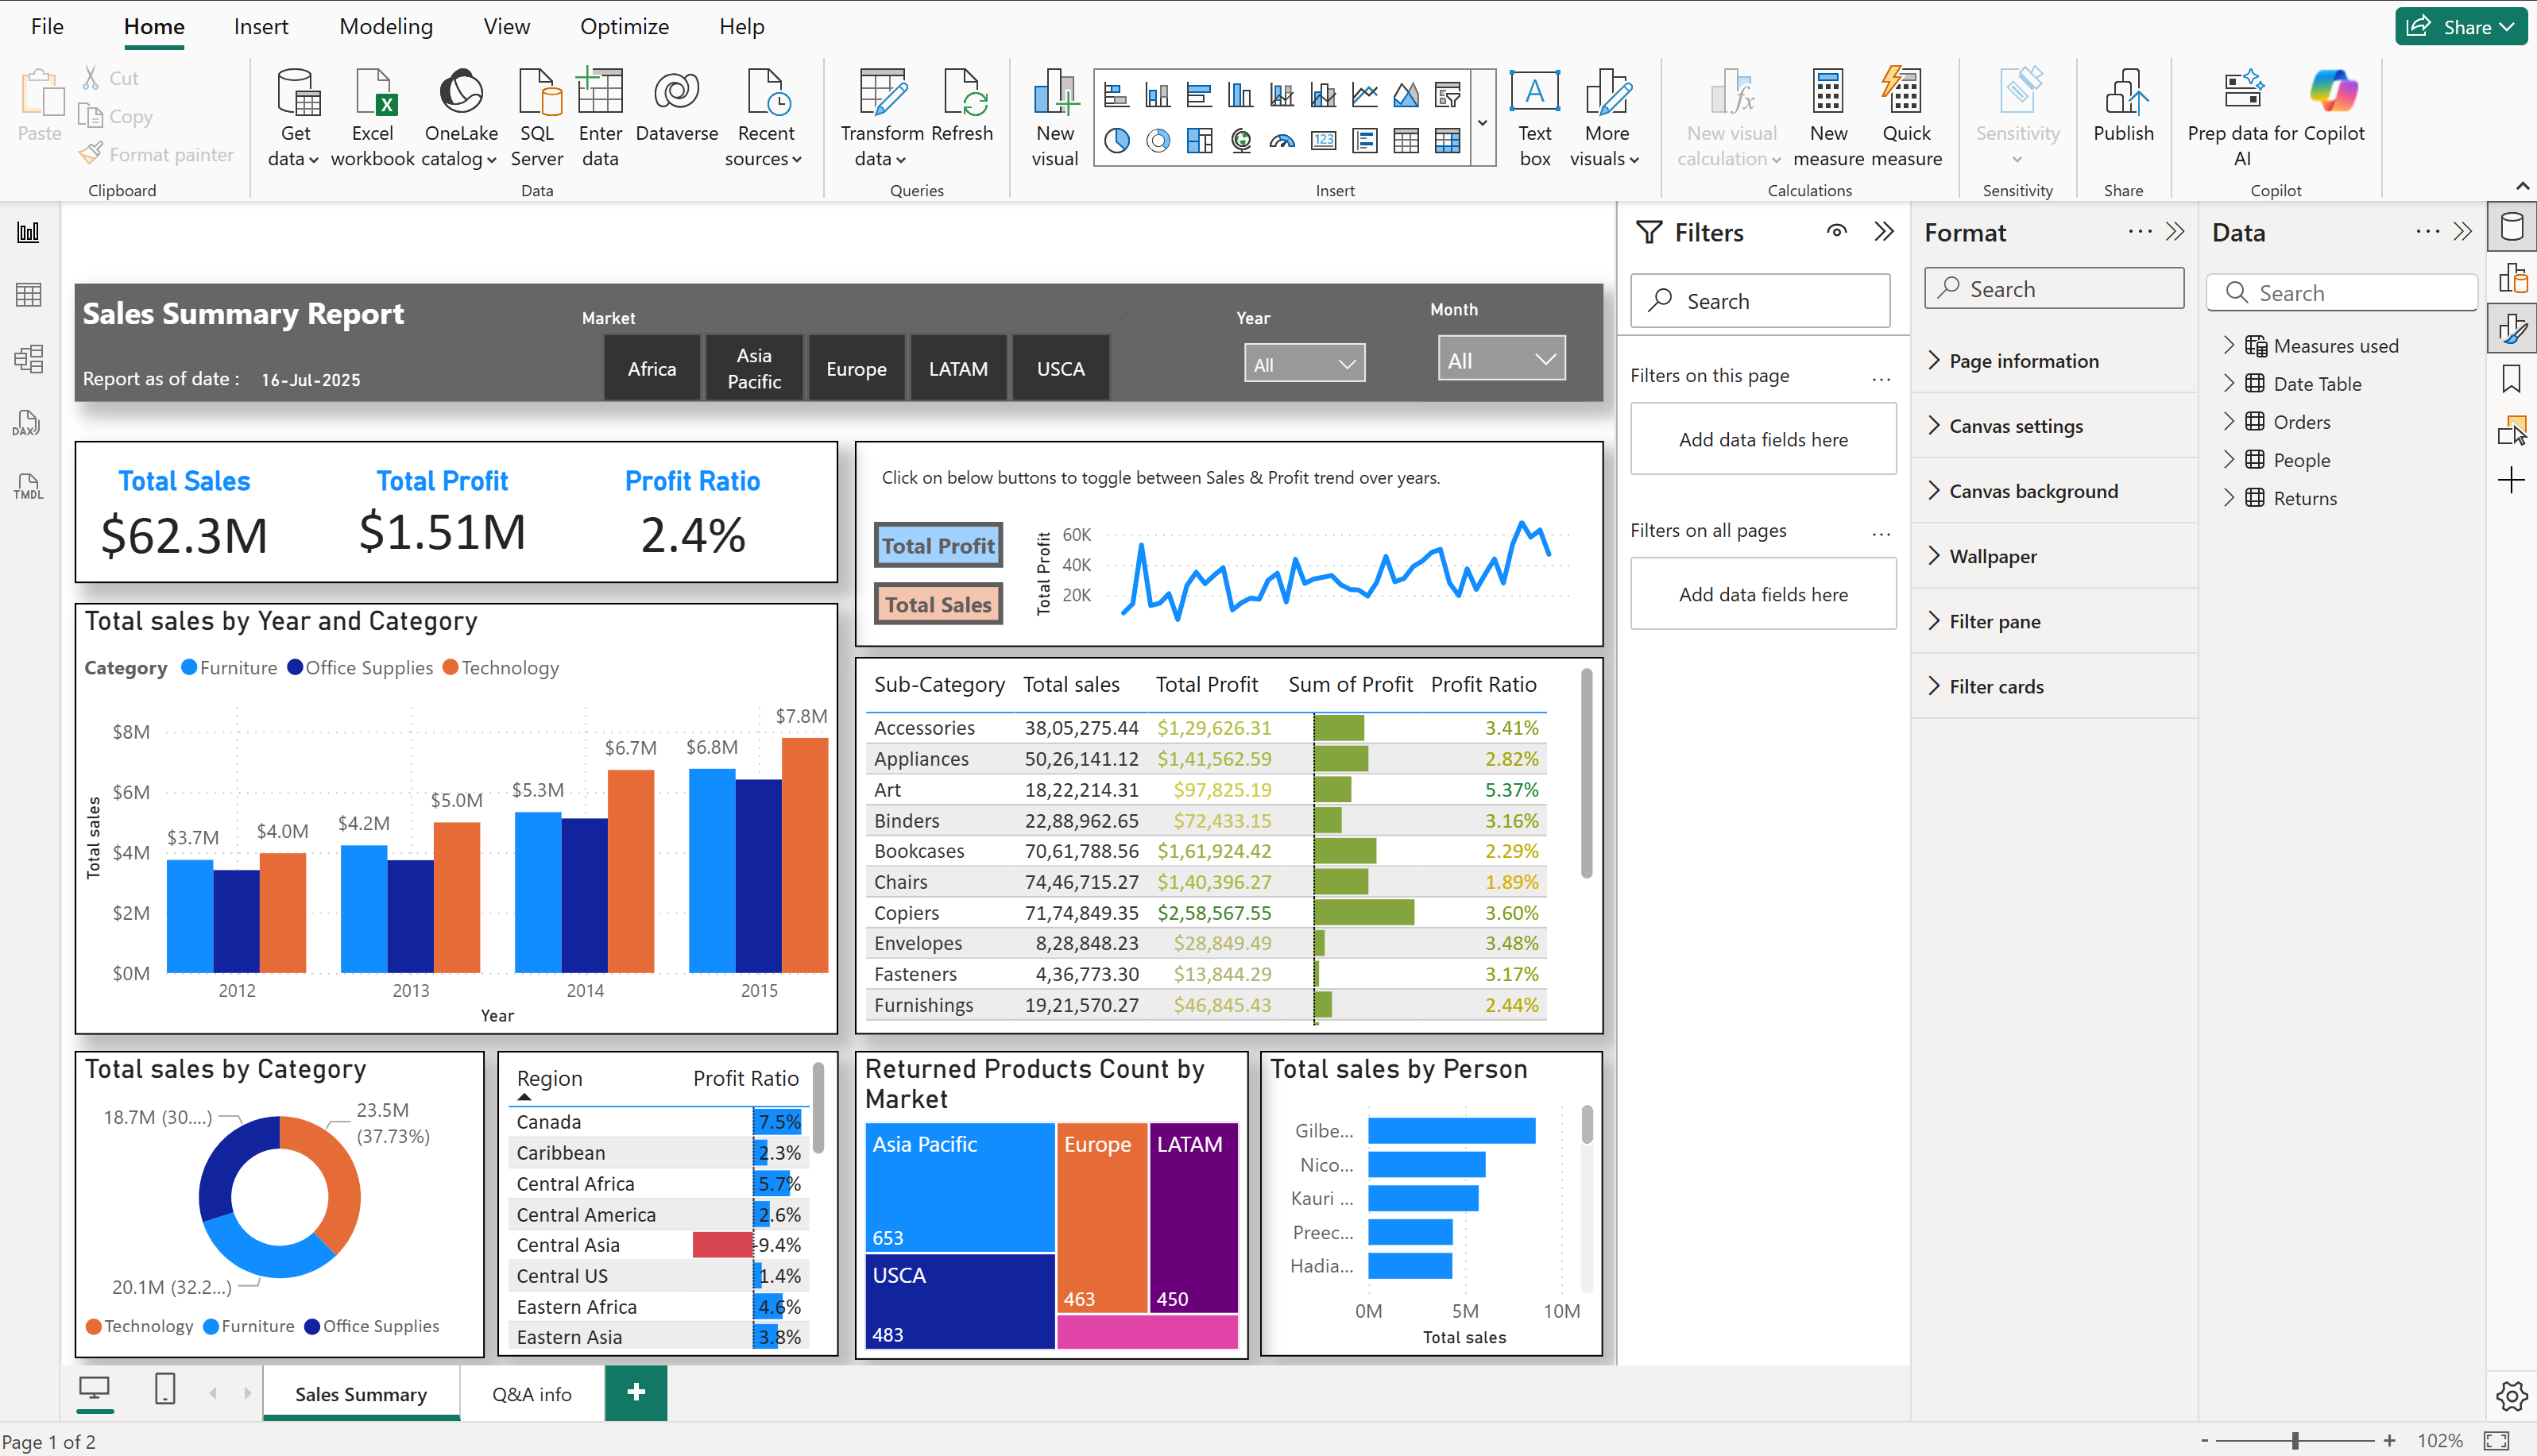

This screenshot's page, from the dashboard's own definition file:
{"tool":"powerbi","page":{"name":"Sales Summary","canvas":[960,720],"ordinal":0},"visuals":[{"type":"textbox","box":[8.1,51.5,944.8,72.8],"z":0},{"type":"textbox","box":[490.1,148.5,462.8,127.3],"z":1000},{"type":"textbox","box":[8.1,148.5,471.9,87.9],"z":2000},{"type":"card","title":"   Total Profit","fields":{"Values":["Date Table.Total Profit"]},"box":[176.8,162.7,117.2,59.6],"z":3000},{"type":"card","title":"Total Sales","fields":{"Values":["Date Table.Total sales"]},"box":[17.2,162.7,118.2,64.7],"z":4000},{"type":"card","title":"Profit Ratio","fields":{"Values":["Date Table.Profit Ratio"]},"box":[331.5,162.7,118.2,63.7],"z":5000},{"type":"textbox","box":[1088.6,6.6,191.4,35.9],"z":6000},{"type":"clusteredColumnChart","fields":{"Y":["Date Table.Total sales"],"Category":["Date Table.Year"],"Series":["Orders.Category"]},"box":[8.1,248.6,471.9,266.8],"z":7000},{"type":"donutChart","fields":{"Y":["Date Table.Total sales"],"Category":["Orders.Category"]},"box":[8.1,525.5,253.6,190],"z":8000},{"type":"tableEx","fields":{"Values":["Orders.Region","Date Table.Profit Ratio"]},"box":[268.8,525.5,211.2,189],"z":9000},{"type":"tableEx","fields":{"Values":["Orders.Sub-Category","Date Table.Total sales","Date Table.Total Profit","Orders.Profit","Date Table.Profit Ratio"]},"box":[490.1,281.9,462.8,233.4],"z":10000},{"type":"barChart","fields":{"Category":["People.Person"],"Y":["Date Table.Total sales"]},"box":[740.7,525.5,212.2,189],"z":11000},{"type":"treemap","fields":{"Group":["Orders.Market"],"Values":["Date Table.Returned Products Count"]},"box":[490.1,525.5,243.5,191],"z":12000},{"type":"lineChart","fields":{"Y":["Date Table.Total Profit"],"Category":["Date Table.Date.Variation.Date Hierarchy.Year","Date Table.Date.Variation.Date Hierarchy.Month"]},"box":[596.2,184.9,343.6,83.9],"z":13000},{"type":"card","fields":{"Values":["Date Table.TodayDate"]},"box":[111.2,95,90.9,21.2],"z":15000},{"type":"actionButton","title":"sales","box":[502.2,235.5,79.8,26.3],"z":16000},{"type":"slicer","title":"Year","fields":{"Values":["Date Table.Year"]},"box":[720.5,60.6,95,61.6],"z":17000},{"type":"slicer","title":"Month","fields":{"Values":["Date Table.MonthName"]},"box":[840.8,60.6,99,62.7],"z":18000},{"type":"actionButton","title":"profit","box":[502.2,198.1,79.8,28.3],"z":19000},{"type":"textbox","box":[502.2,155.6,437.6,30.3],"z":20000},{"type":"textbox","box":[8.1,94,114.2,28.3],"z":21000},{"type":"slicer","fields":{"Values":["Orders.Market"]},"box":[308.2,60.6,363.8,62.7],"z":22000},{"type":"textbox","box":[8.1,51.5,227.4,43.5],"z":23000}]}

Visuals, with their boxes on the page's 960x720 design canvas (x1, y1, x2, y2). These are canvas units, not pixel positions in the 2537x1456 screenshot, which may show the page scaled, cropped or inside an application window:
textbox: rect(8, 52, 953, 124)
textbox: rect(490, 148, 953, 276)
textbox: rect(8, 148, 480, 236)
"   Total Profit" card: rect(177, 163, 294, 222)
"Total Sales" card: rect(17, 163, 135, 227)
"Profit Ratio" card: rect(332, 163, 450, 226)
textbox: rect(1089, 7, 1280, 42)
clusteredColumnChart - Date Table.Total sales x Date Table.Year: rect(8, 249, 480, 515)
donutChart - Date Table.Total sales x Orders.Category: rect(8, 526, 262, 716)
tableEx - Orders.Region x Date Table.Profit Ratio: rect(269, 526, 480, 714)
tableEx - Orders.Sub-Category x Date Table.Total sales: rect(490, 282, 953, 515)
barChart - People.Person x Date Table.Total sales: rect(741, 526, 953, 714)
treemap - Orders.Market x Date Table.Returned Products Count: rect(490, 526, 734, 716)
lineChart - Date Table.Total Profit x Date Table.Date.Variation.Date Hierarchy.Year: rect(596, 185, 940, 269)
card - Date Table.TodayDate: rect(111, 95, 202, 116)
"sales" actionButton: rect(502, 236, 582, 262)
"Year" slicer: rect(720, 61, 816, 122)
"Month" slicer: rect(841, 61, 940, 123)
"profit" actionButton: rect(502, 198, 582, 226)
textbox: rect(502, 156, 940, 186)
textbox: rect(8, 94, 122, 122)
slicer - Orders.Market: rect(308, 61, 672, 123)
textbox: rect(8, 52, 236, 95)
